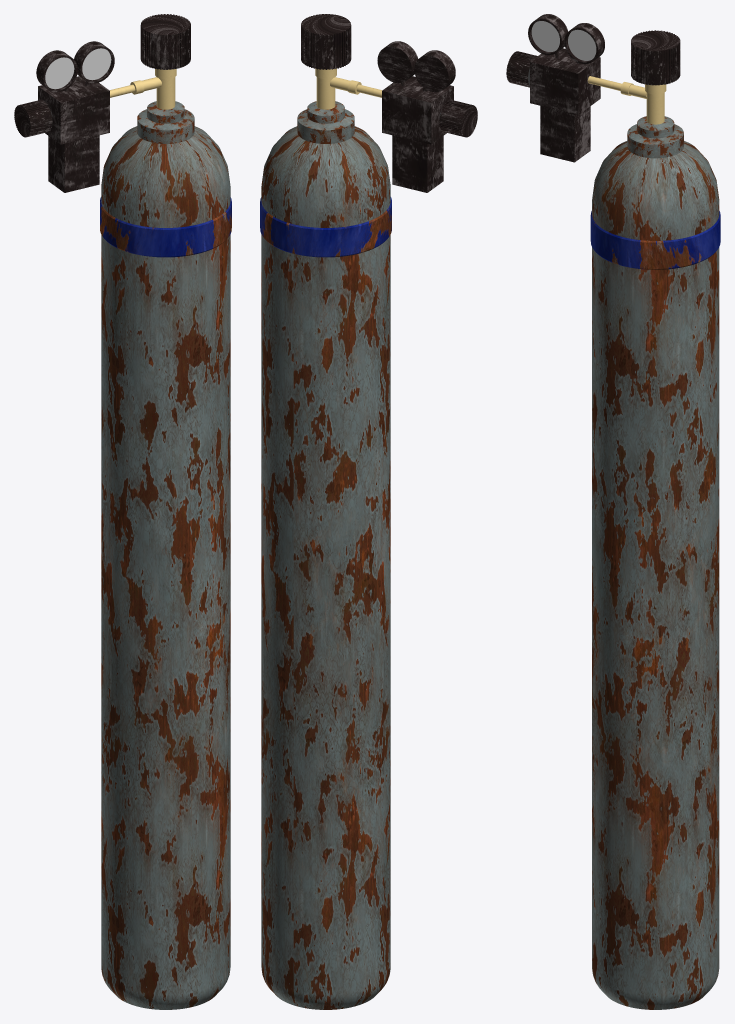
The model's file is gas bottle white.fbx.
3 views of the same model, side by side, from view 1: azimuth 30°, elevation 25°; view 2: azimuth 150°, elevation 25°; view 3: azimuth 330°, elevation 25° (orthographic).
Parts seen in each view (by area): view 1: Circle; view 2: Circle; view 3: Circle.
Part boxes in pixels (x1,y1,x2,y2): Circle: (14, 14, 231, 1009); Circle: (260, 14, 477, 1009); Circle: (506, 14, 720, 1009).
Size of the model in its own units: 40.38 by 185 by 23.
